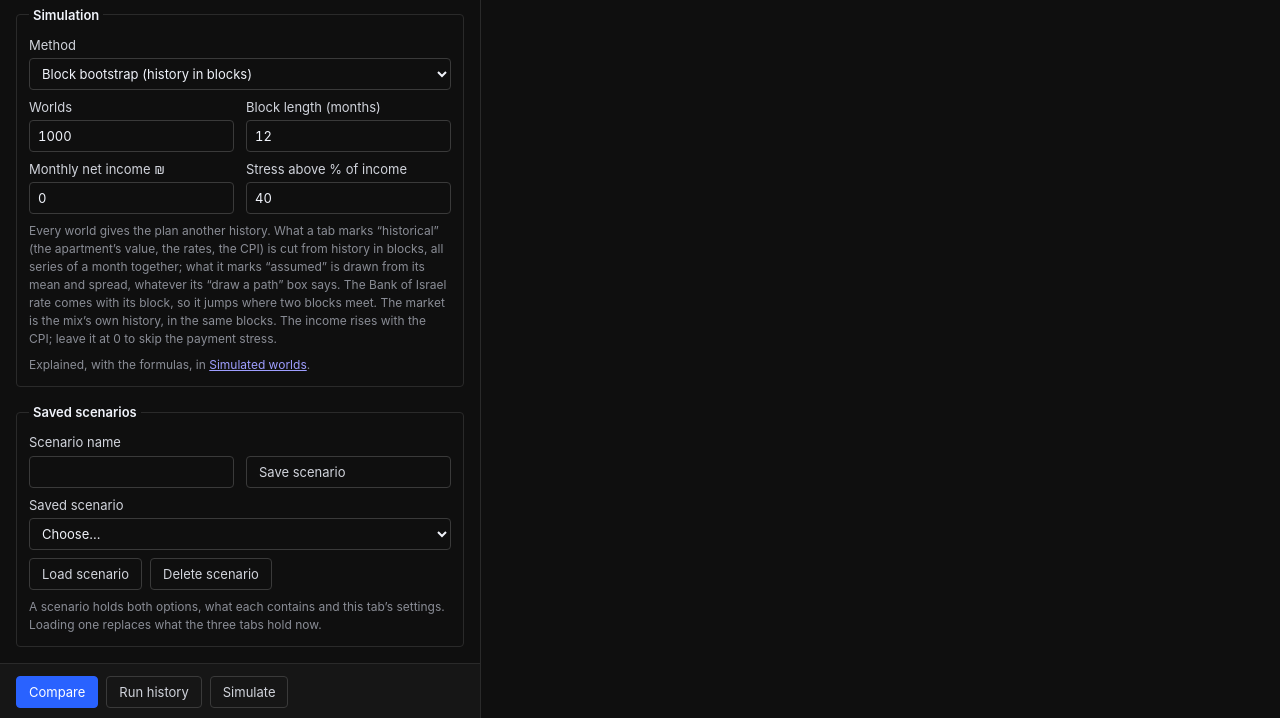
it: PlannerCompare › runs the comparison again when a saved scenario is loaded
(page scrolled)
Select "Haifa" in the dropdown labelled "Saved scenario" at point(240, 534), box [29, 518, 451, 550]
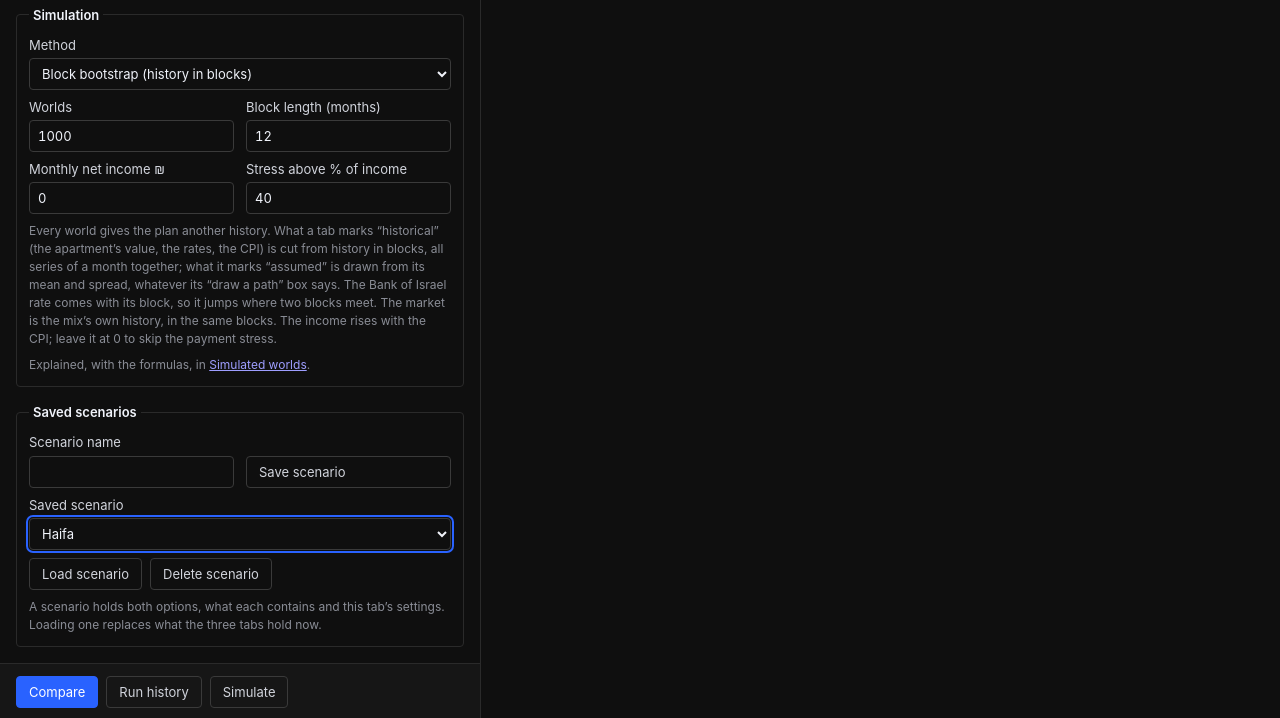
Click the button "Load scenario" at point(86, 574), box [29, 558, 142, 590]
(page scrolled)
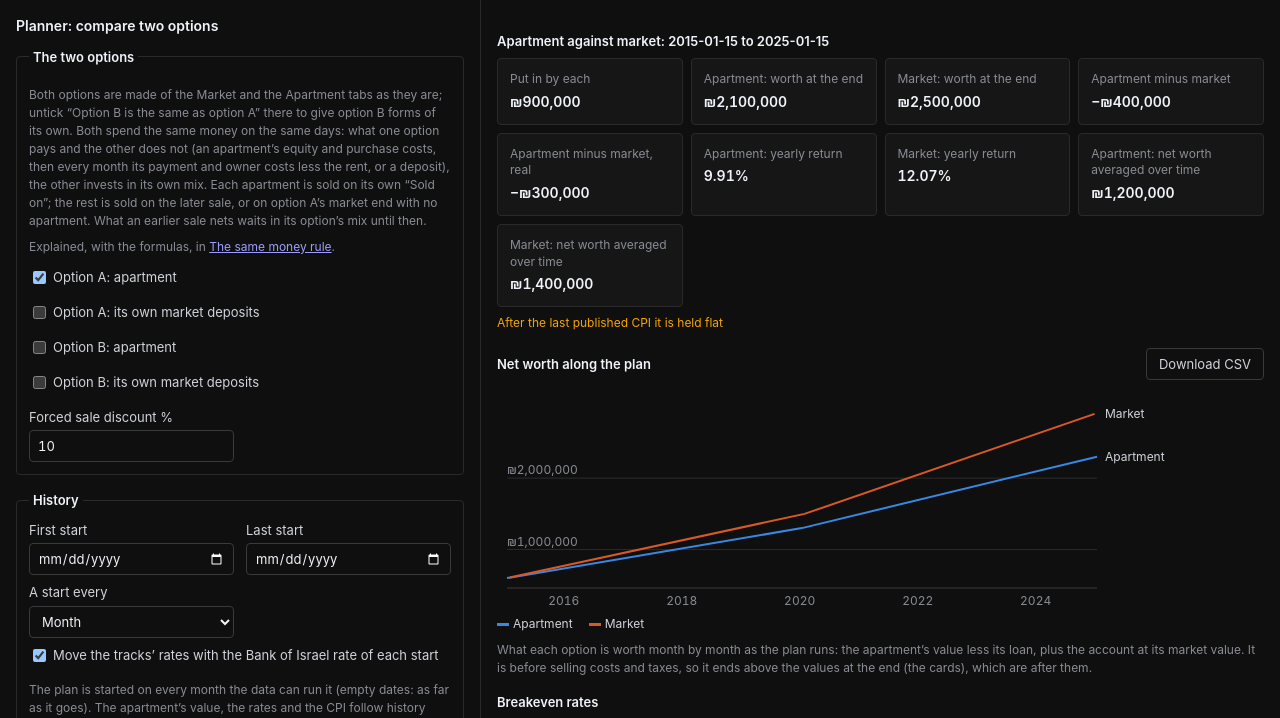
Expected: the heading "Apartment against market: 2015-01-15 to 2025-01-15" is shown, [497, 33, 829, 49]
